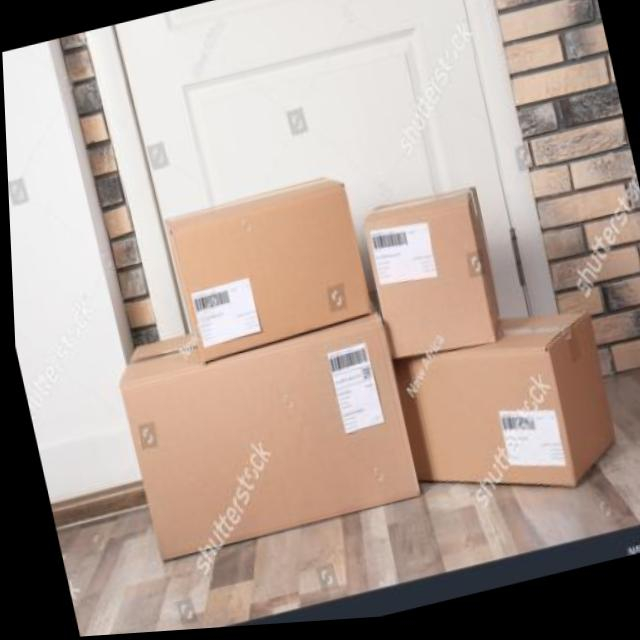box: (99, 281, 434, 575), (385, 299, 637, 546), (159, 166, 376, 372), (351, 173, 515, 383)
